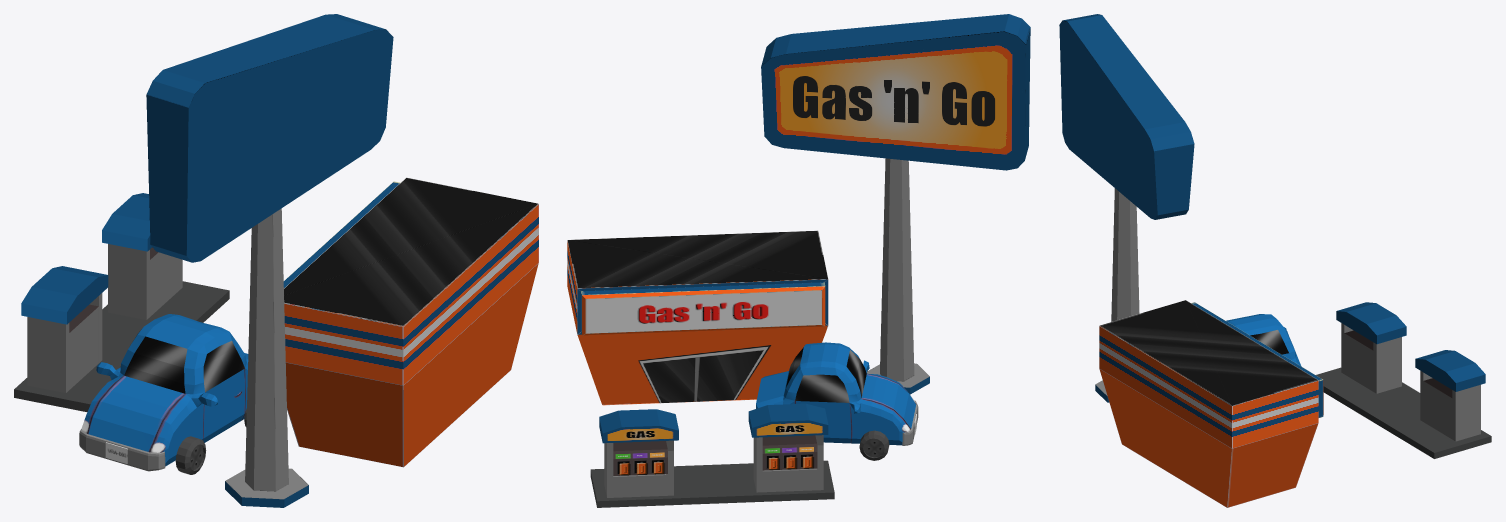
The model's file is Gas Station_Final.FBX.
The picture shows the model from 3 angles, left to right: view 1: azimuth 30°, elevation 25°; view 2: azimuth 150°, elevation 25°; view 3: azimuth 270°, elevation 25°; orthographic projection. The views are drawn at different scales.
Visible parts, largest first — view 1: Gas Station, Sign, Car, Pump_02, Pump_01, Concrete; view 2: Sign, Gas Station, Car, Pump_02, Pump_01, Concrete; view 3: Gas Station, Sign, Concrete, Pump_01, Pump_02, Car.
Part boxes in pixels (bbox=[...]): Gas Station: bbox=[283, 177, 538, 467]; Sign: bbox=[146, 14, 393, 507]; Car: bbox=[79, 314, 248, 474]; Pump_02: bbox=[21, 266, 108, 392]; Pump_01: bbox=[102, 193, 182, 319]; Concrete: bbox=[14, 281, 229, 411]; Sign: bbox=[761, 14, 1030, 394]; Gas Station: bbox=[567, 230, 828, 405]; Car: bbox=[756, 342, 918, 460]; Pump_02: bbox=[748, 403, 828, 492]; Pump_01: bbox=[599, 409, 678, 497]; Concrete: bbox=[590, 460, 834, 507]; Gas Station: bbox=[1099, 300, 1323, 507]; Sign: bbox=[1059, 14, 1194, 402]; Concrete: bbox=[1316, 367, 1491, 458]; Pump_01: bbox=[1415, 350, 1485, 441]; Pump_02: bbox=[1336, 302, 1406, 393]; Car: bbox=[1226, 314, 1301, 366].
Bounding box in the file's own units: 37.4 × 34.56 × 39.68.
5 materials, 4 textured.
